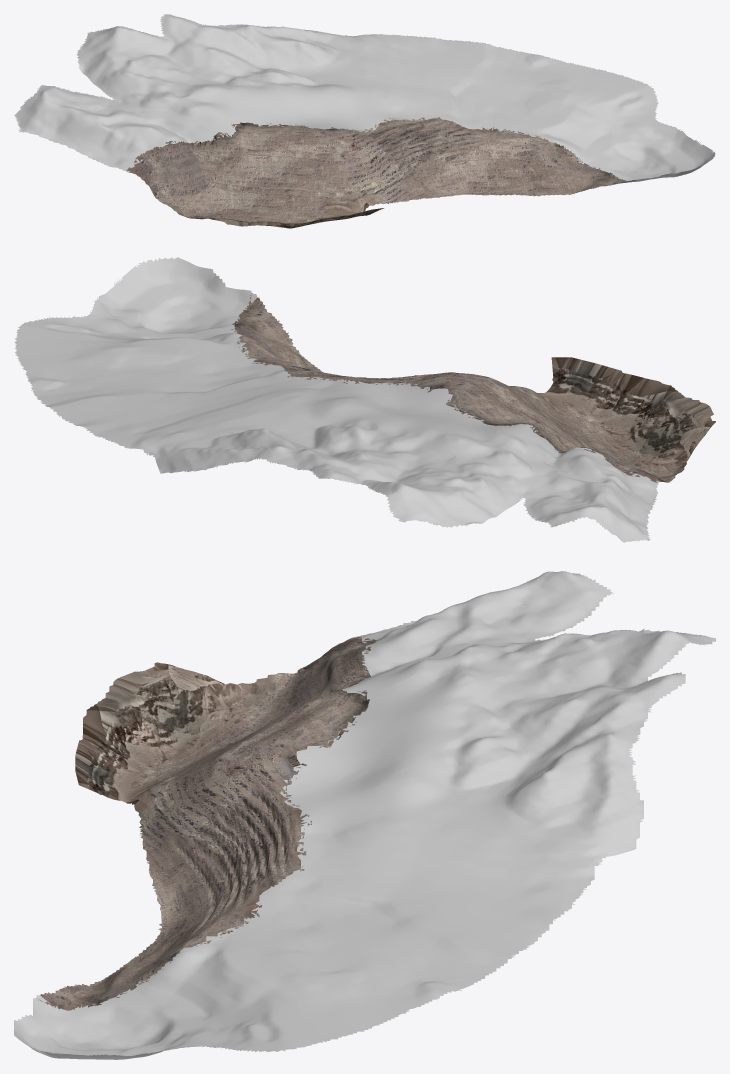
File: MOD_MG_StripMine.fbx
The picture shows the model from 3 angles, top to bottom: view 1: azimuth 30°, elevation 25°; view 2: azimuth 150°, elevation 25°; view 3: azimuth 270°, elevation 25°; orthographic projection. The views are drawn at different scales.
Visible parts, largest first — view 1: MOD_MG_Stripmine; view 2: MOD_MG_Stripmine; view 3: MOD_MG_Stripmine.
Boxes of the visible parts, x1=… form: MOD_MG_Stripmine: x1=14, y1=14, x2=715, y2=228; MOD_MG_Stripmine: x1=14, y1=257, x2=715, y2=542; MOD_MG_Stripmine: x1=14, y1=571, x2=715, y2=1059.
Size of the model in its own units: 271428 by 46228 by 191303.
